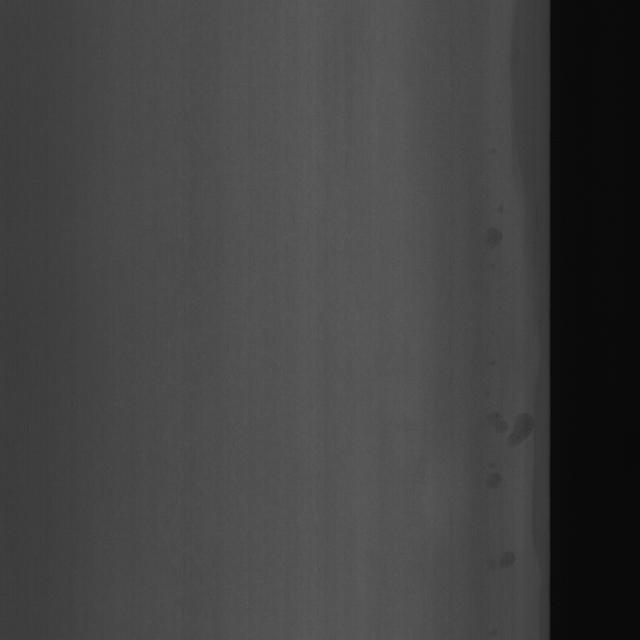welding_line: (481, 401, 533, 476), (482, 207, 507, 272), (495, 533, 523, 584)
